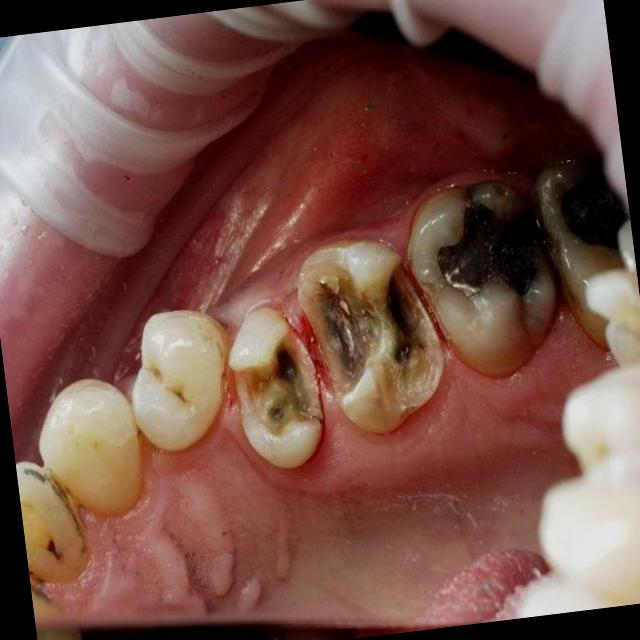caries: (291, 222, 446, 434), (406, 176, 560, 385), (536, 158, 640, 346), (226, 303, 328, 475), (15, 456, 90, 584)
